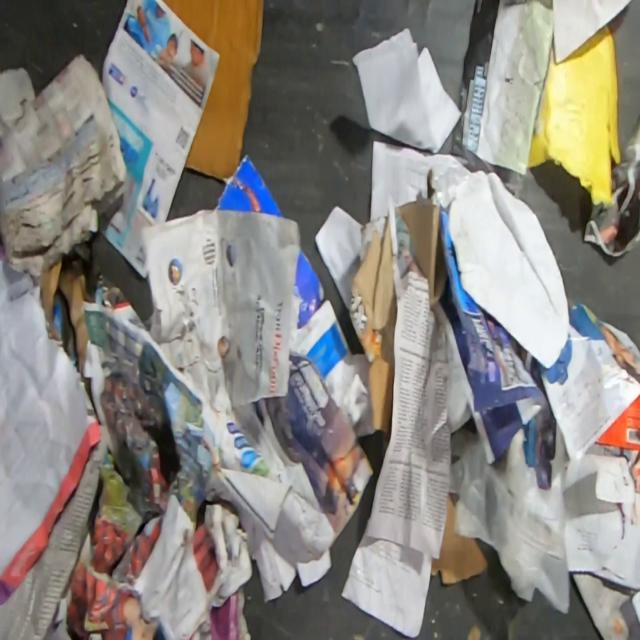cardboard: (161, 0, 265, 183), (527, 22, 623, 208), (348, 215, 396, 433), (396, 197, 449, 310), (431, 493, 488, 585), (594, 393, 640, 452)
soft_plastic: (449, 420, 572, 616)
